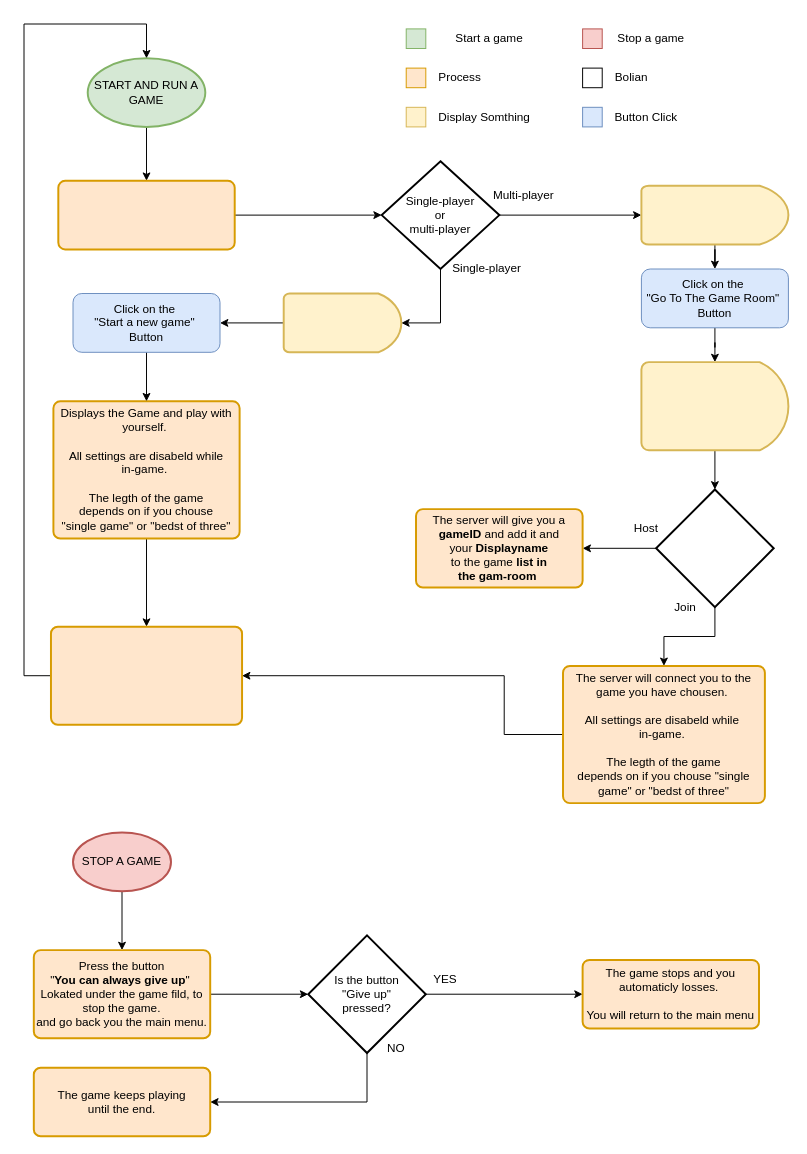
Some shapes in this 807 by 1154 pixel diagram are drawn without their labels. Here are the shapes that lost their labels. From the top down, the box of each, then its label:
(57, 179, 235, 250): Fil out all the settings in the UI before you can Play a game.
(640, 184, 789, 245): Display the "Go To The Game Room" button
(282, 292, 402, 353): Display the "Start a new game" button
(640, 361, 789, 451): Display the Game-room in a new window ON TOP ON THE MAIN WINDOW
(655, 488, 774, 608): host a game or Join a game
(49, 625, 243, 725): After a game (or three) is over the program will return to the main menu
